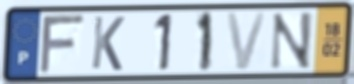1: (153, 11, 176, 74), (193, 10, 214, 75)
F: (37, 12, 88, 76)
K: (89, 15, 127, 73)
N: (268, 10, 315, 72)
V: (224, 10, 270, 73)
